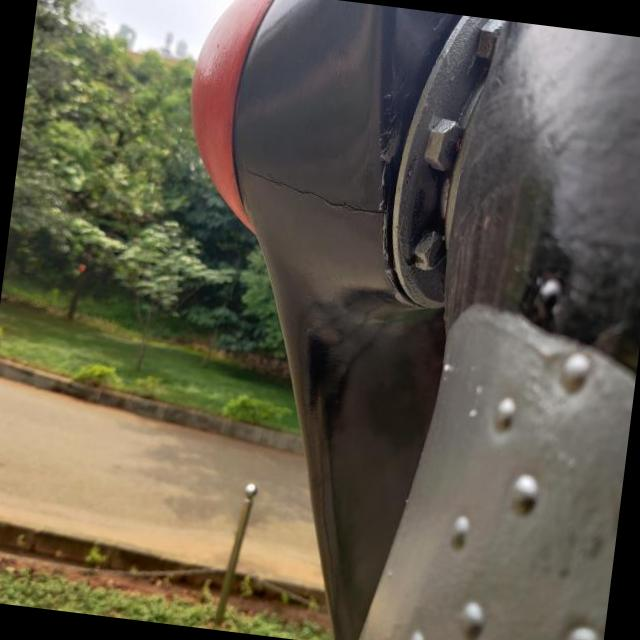Crack: (265, 175, 382, 212)
